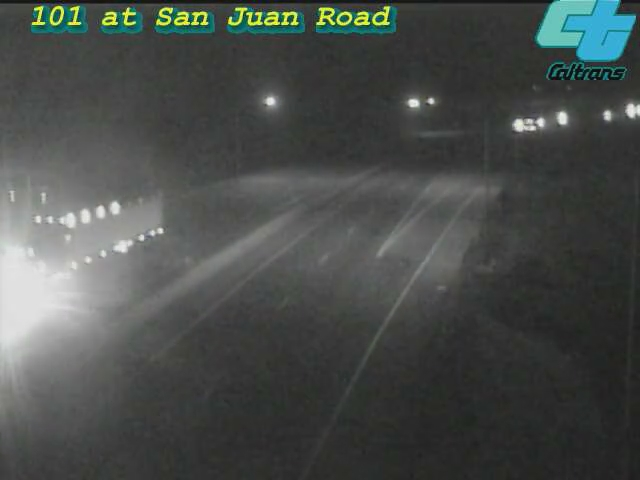vehicle: (30, 207, 110, 287), (583, 90, 633, 140), (505, 100, 555, 150), (492, 100, 542, 150), (536, 94, 586, 144), (517, 97, 567, 147), (605, 86, 640, 136)
